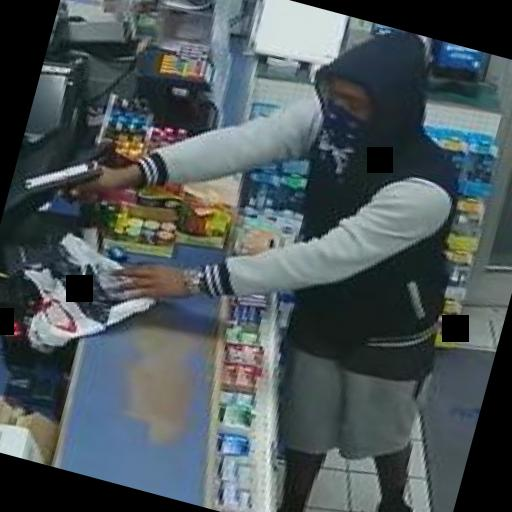Handgun: (15, 140, 106, 209)
